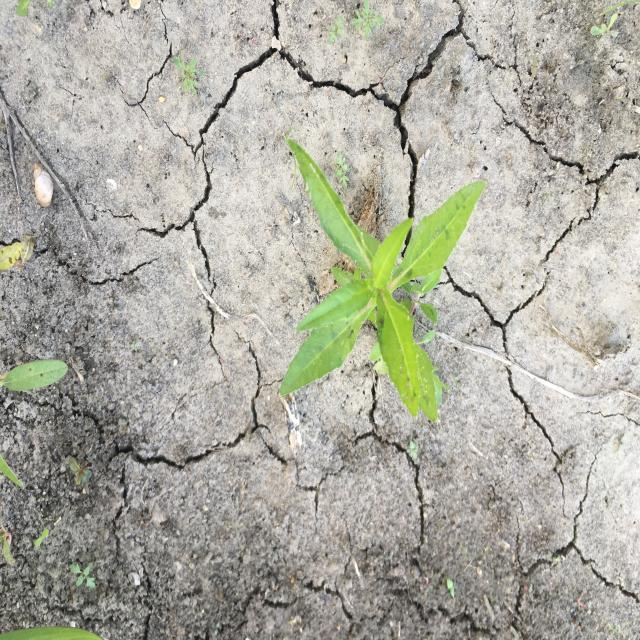Eclipta: (279, 137, 487, 425)
Ragweed: (320, 2, 388, 46), (169, 49, 207, 99)
Waterhemp: (0, 360, 70, 394)
